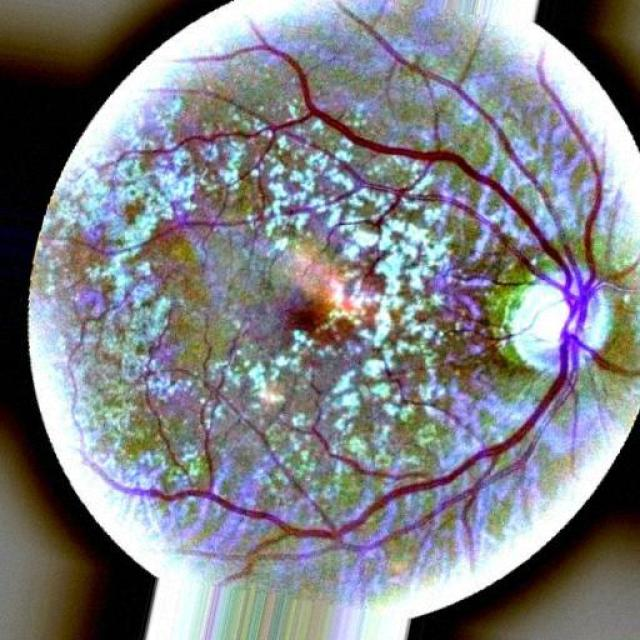Macula: (263, 268, 350, 363)
Nerves: (170, 315, 577, 541), (302, 109, 579, 315)
Optic Disk: (501, 263, 613, 377)
